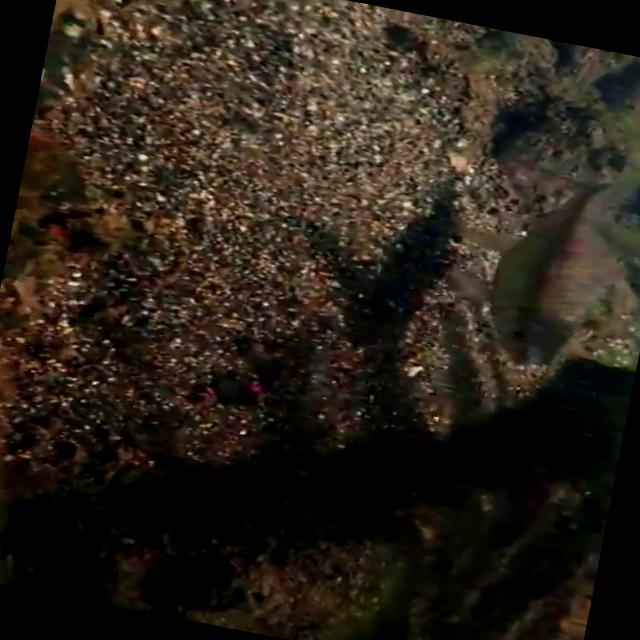Cakil Baligi: (424, 154, 628, 382)
